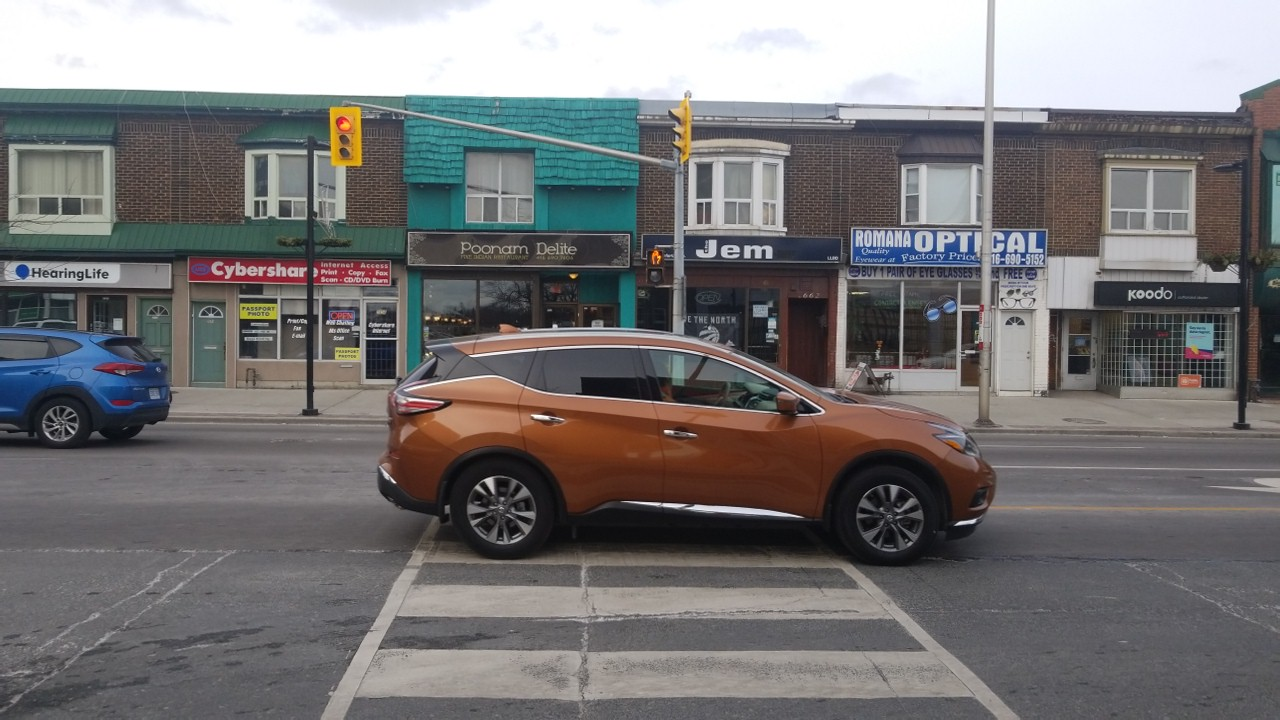light: (646, 247, 664, 284)
